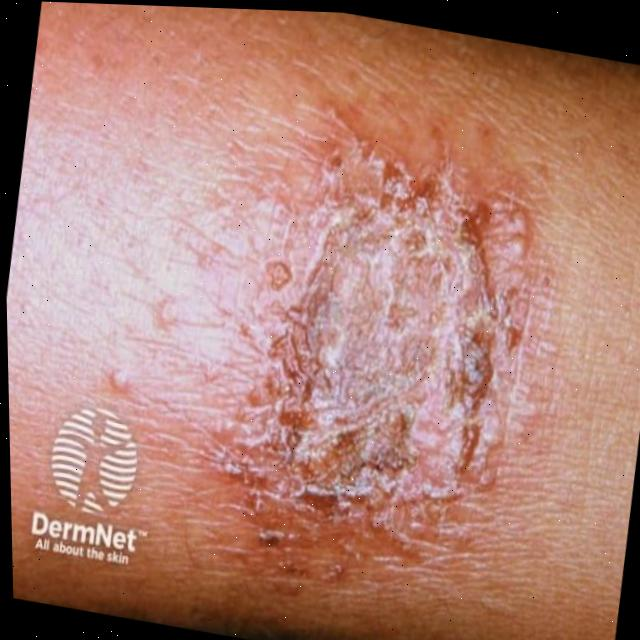Eczema: (234, 154, 522, 543)
